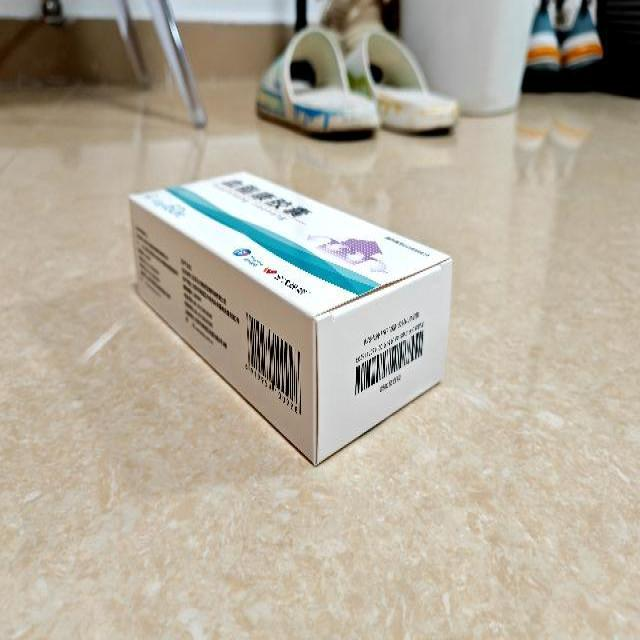box: (130, 170, 452, 465)
